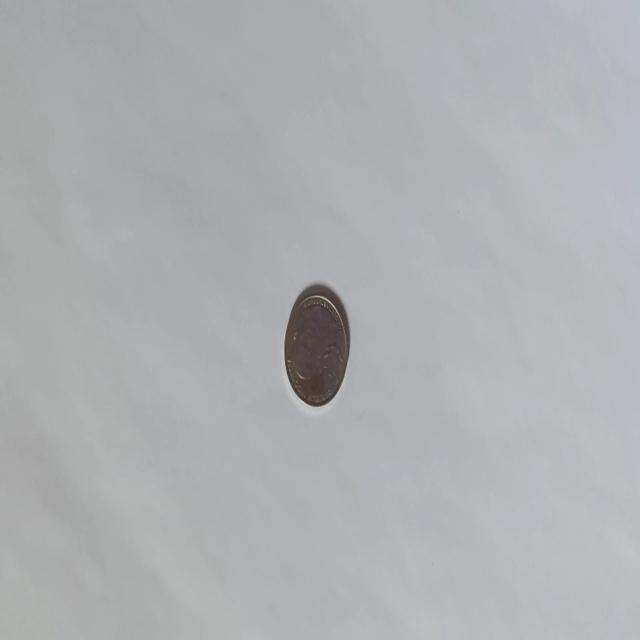seribu rupiah koin: (282, 283, 350, 409)
